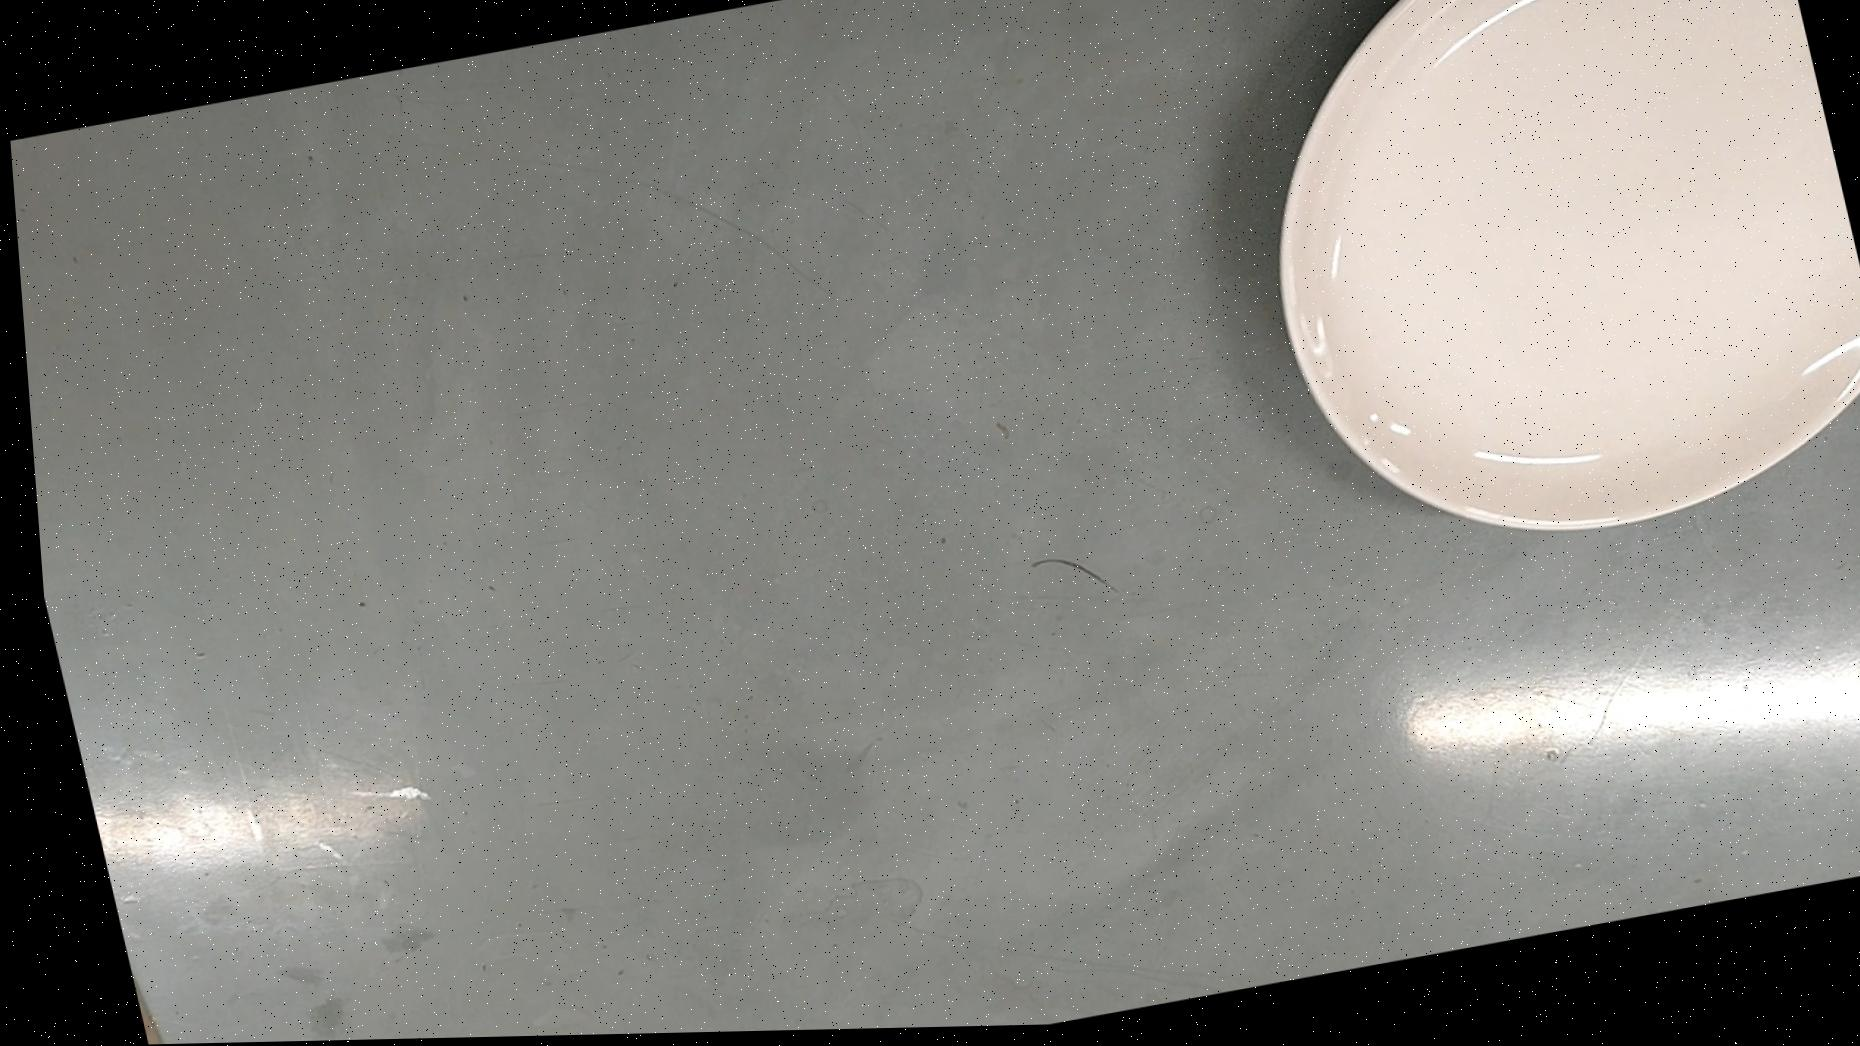plate: (1206, 0, 1860, 587)
